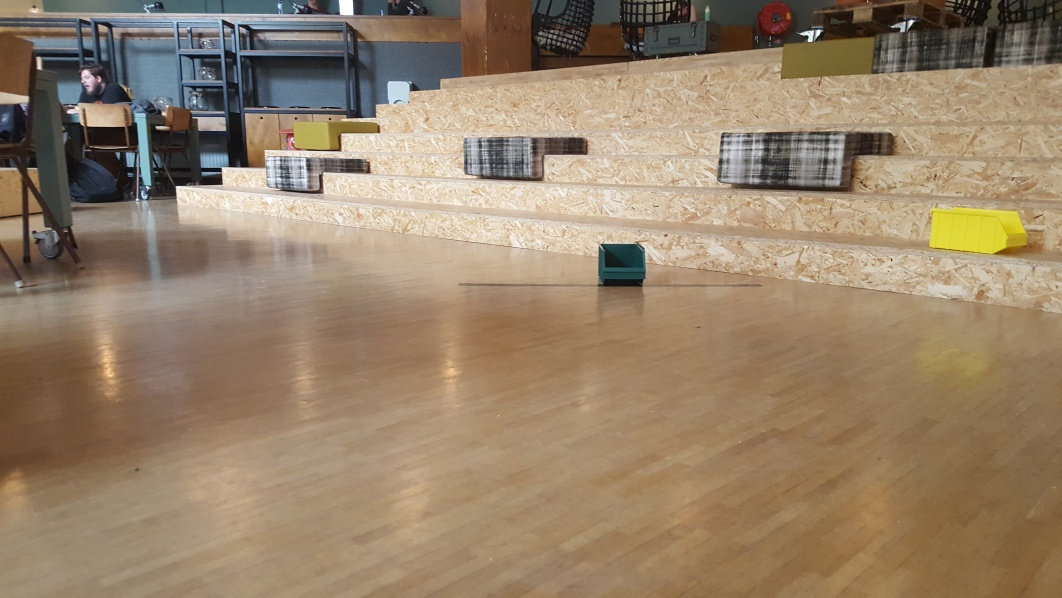tray: (919, 205, 1033, 254), (592, 240, 650, 286)
